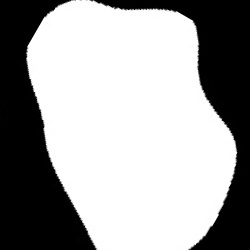spot: (26, 1, 236, 248)
